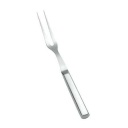fork: (26, 4, 92, 124)
